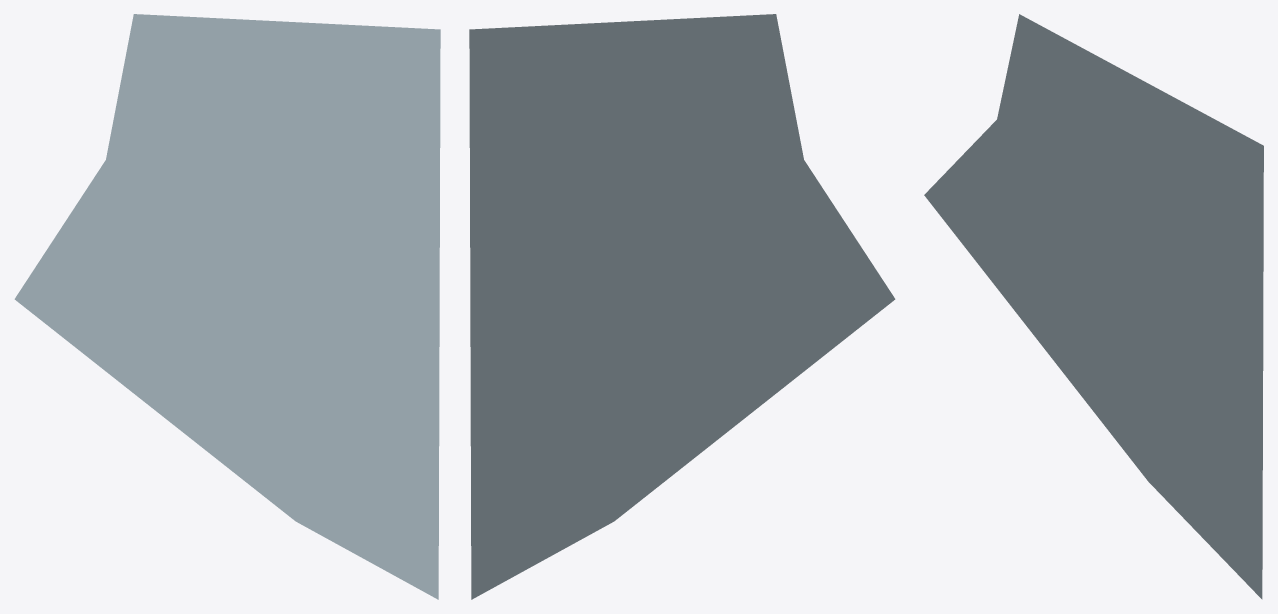
3 renders of one model, left to right at view 1: azimuth 30°, elevation 25°; view 2: azimuth 150°, elevation 25°; view 3: azimuth 330°, elevation 25°, orthographic. The views are drawn at different scales.
Parts seen in each view (by area): view 1: pCube45; view 2: pCube45; view 3: pCube45.
Boxes of the visible parts, x1,y1,x2,y2 form: pCube45: (14,14,440,599); pCube45: (469,14,895,599); pCube45: (924,14,1263,599).
Bounding box in the file's own units: 34.58 × 51.2 × 7.63e-06.
